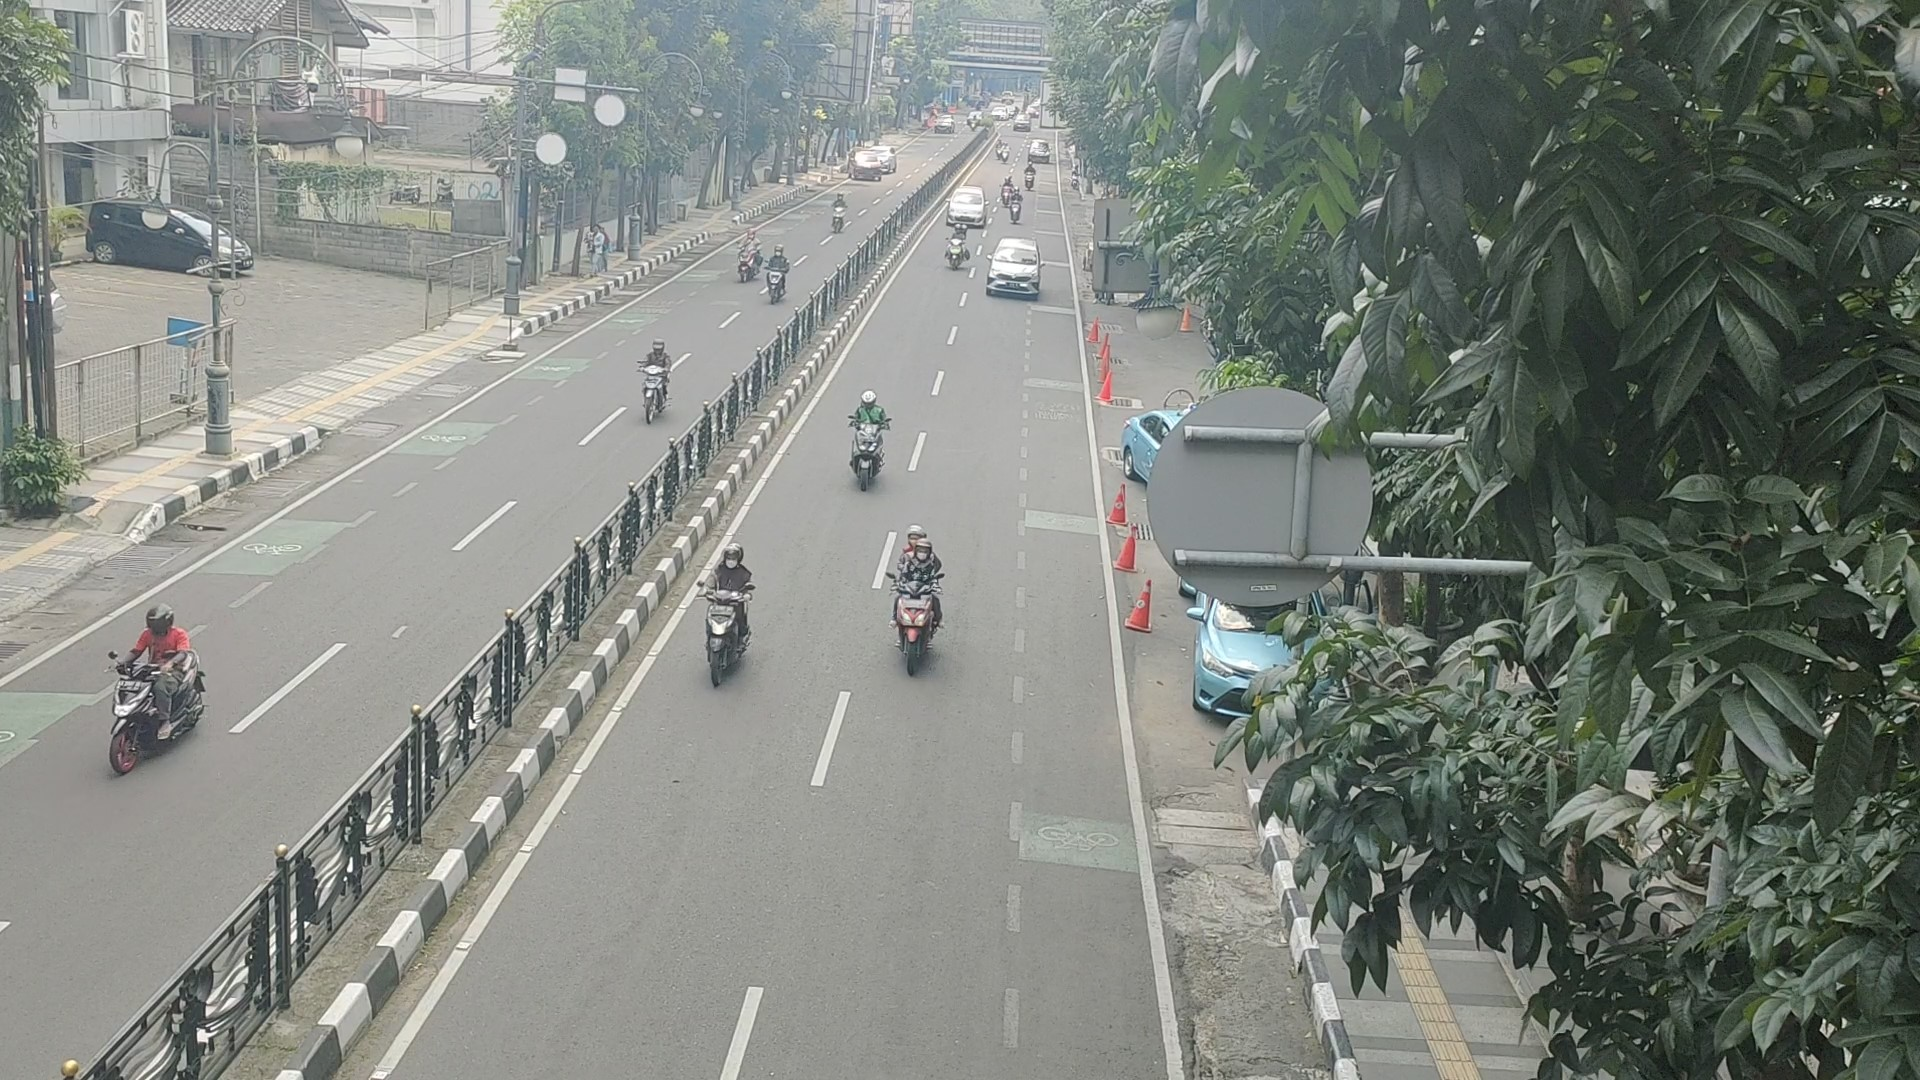mobil: (984, 235, 1043, 303), (945, 185, 986, 233)
motor: (102, 589, 208, 785), (882, 524, 951, 683), (692, 538, 761, 695), (847, 386, 893, 496), (632, 328, 675, 429), (728, 227, 765, 290), (764, 241, 793, 315), (942, 219, 971, 273), (829, 194, 847, 235)
